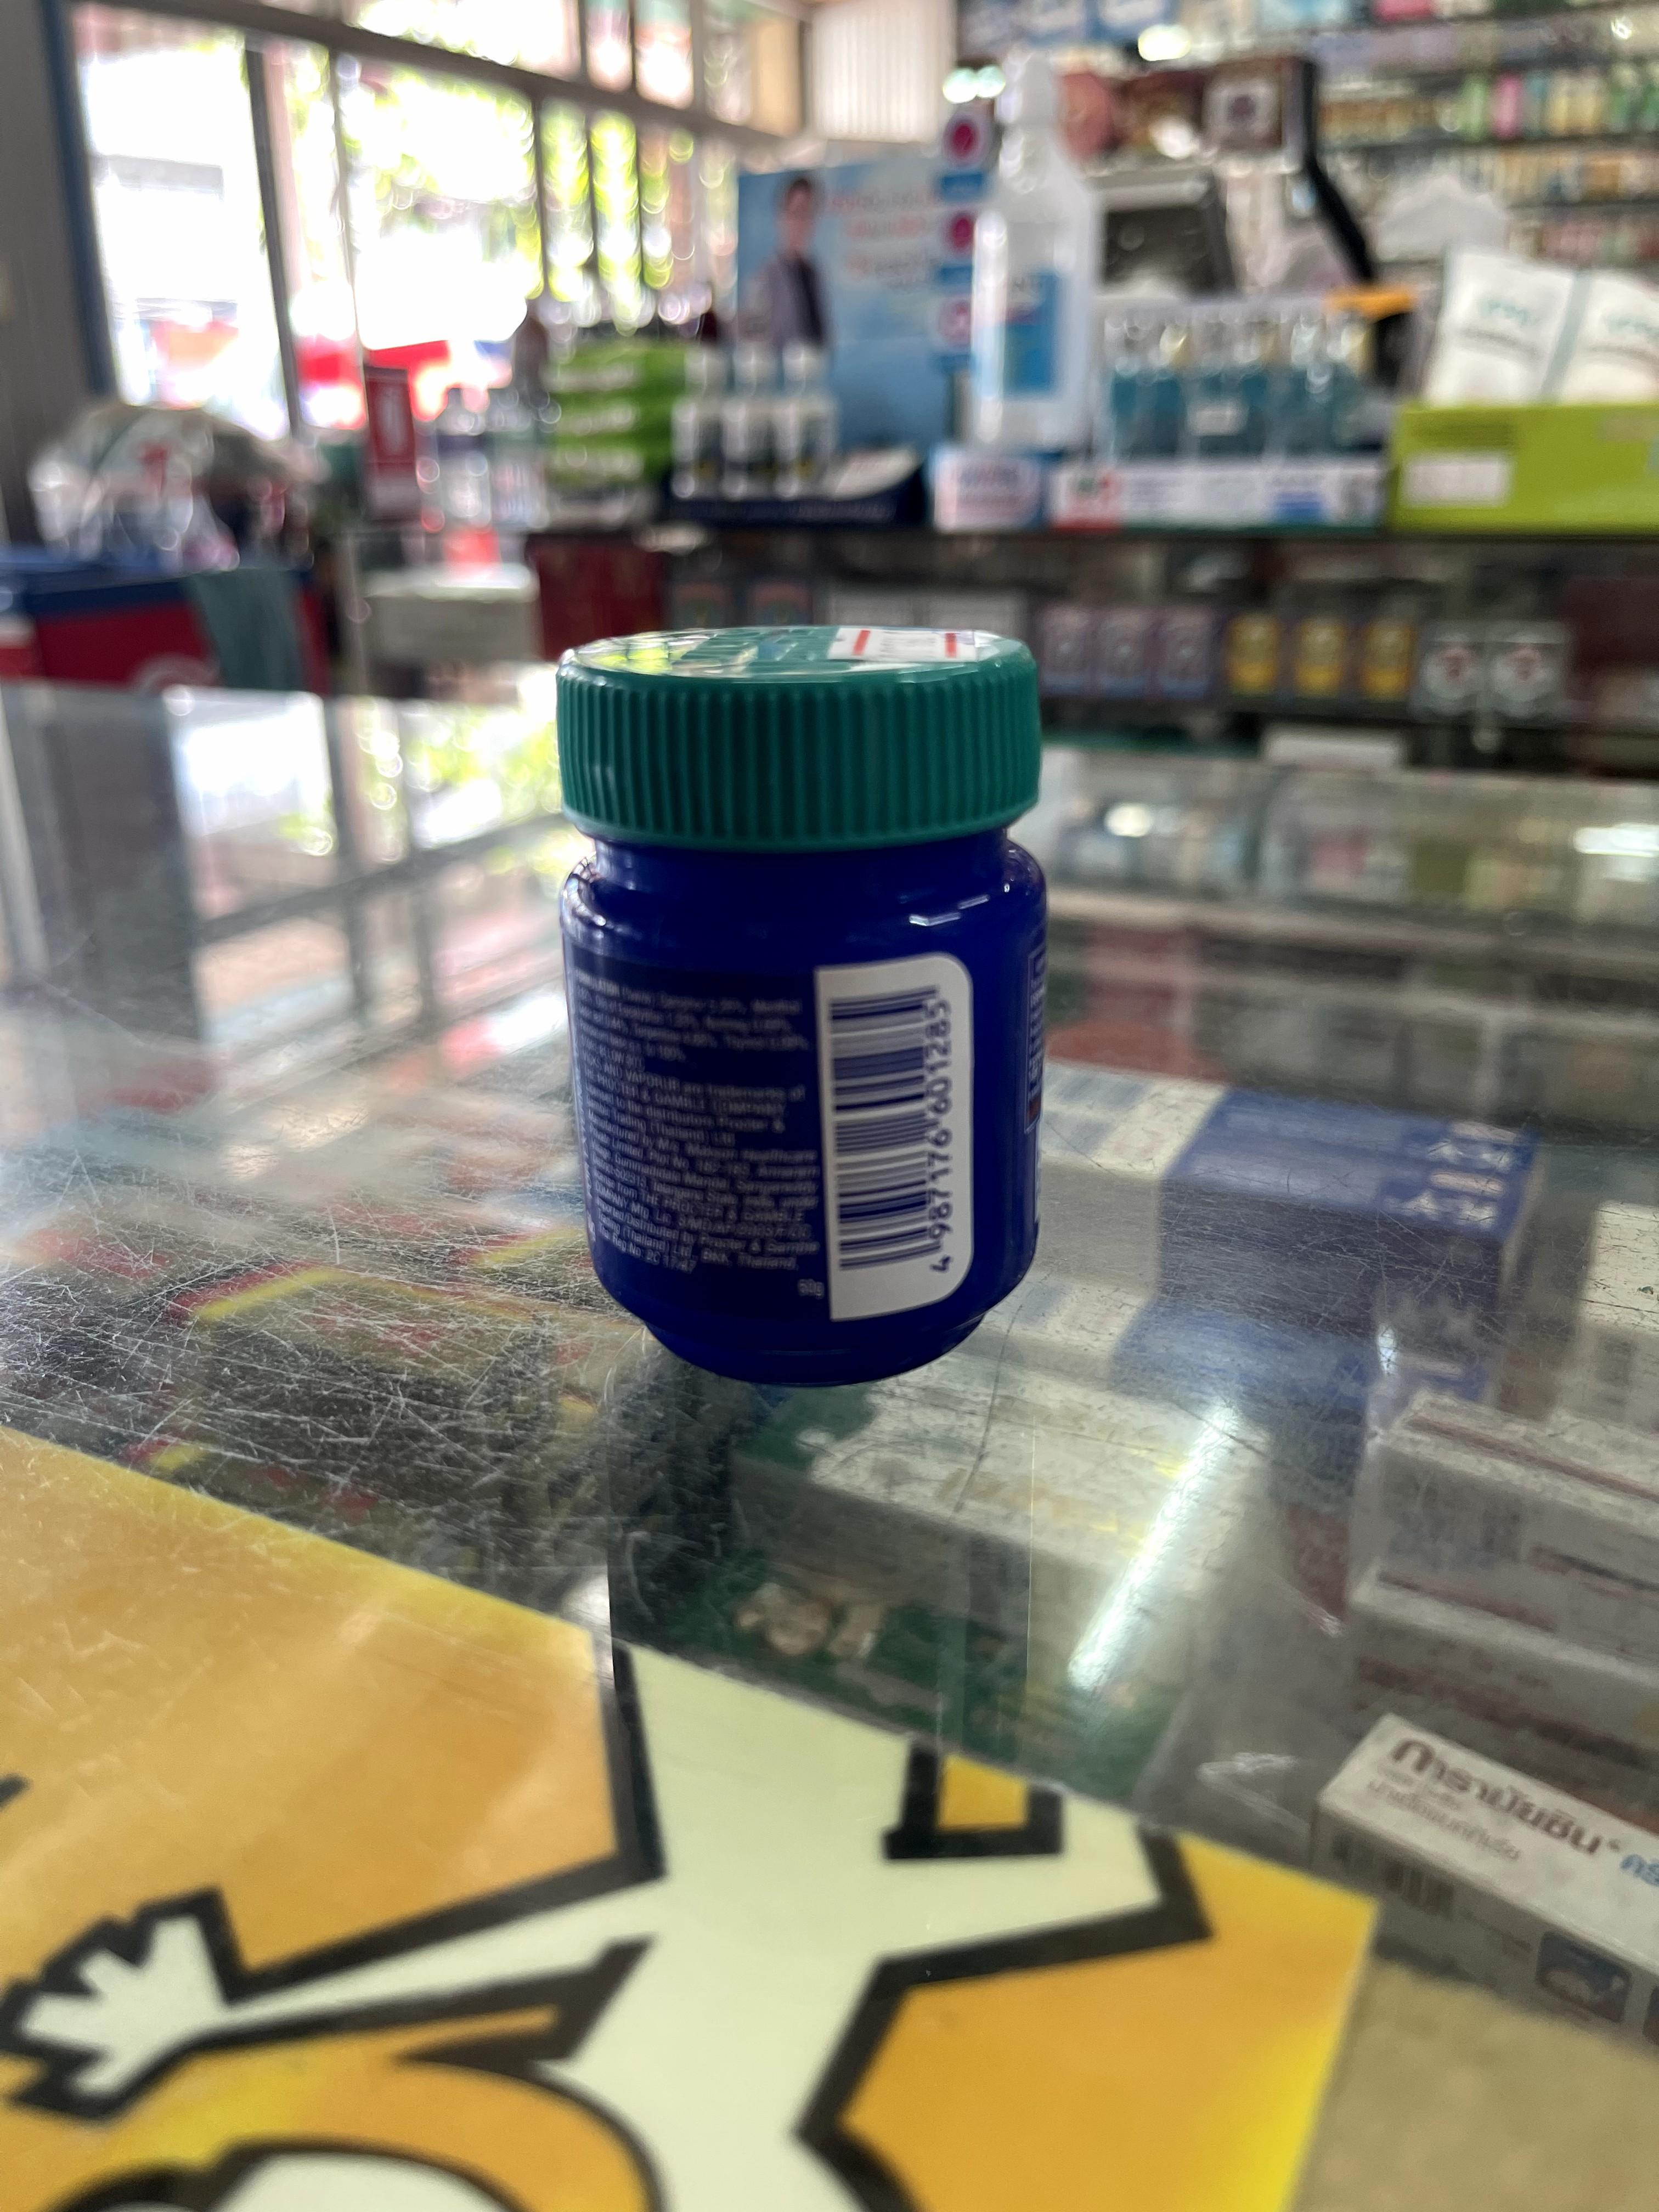VapoRub_Big: (554, 625, 1060, 1390)
